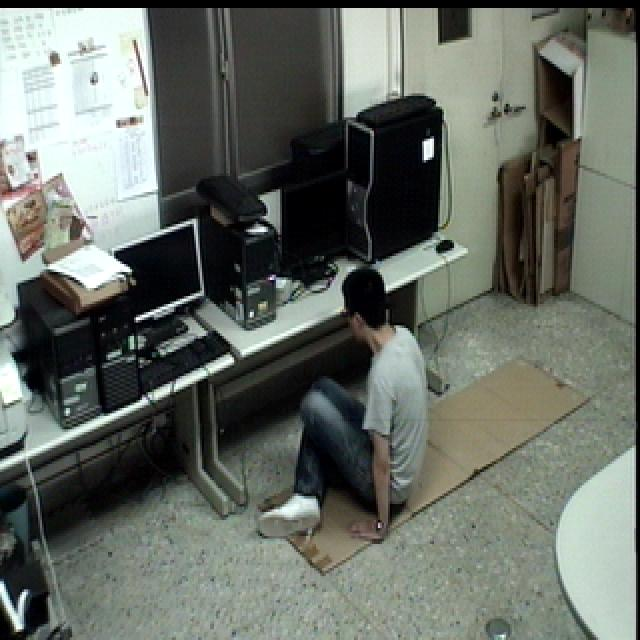sit: (261, 262, 430, 549)
